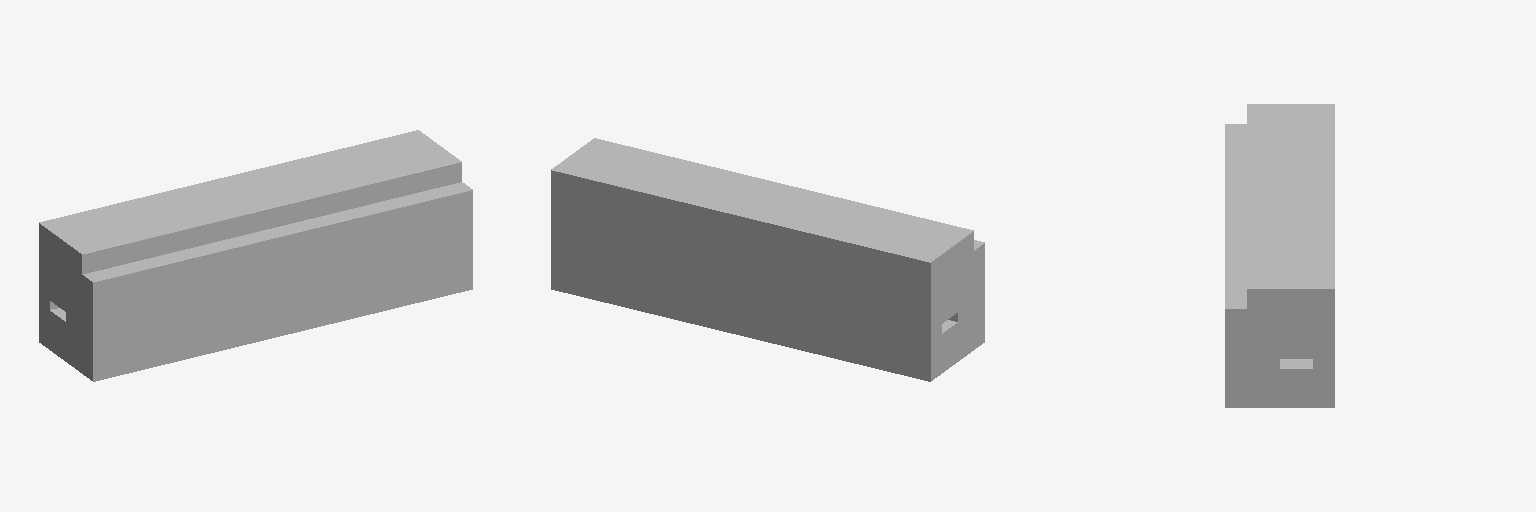
Rendered from upper_arm.obj.
The picture shows the model from 3 angles: view 1: azimuth 30°, elevation 25°; view 2: azimuth 150°, elevation 25°; view 3: azimuth 270°, elevation 25°; orthographic projection.
Size of the model in its own units: 40 by 12 by 10.